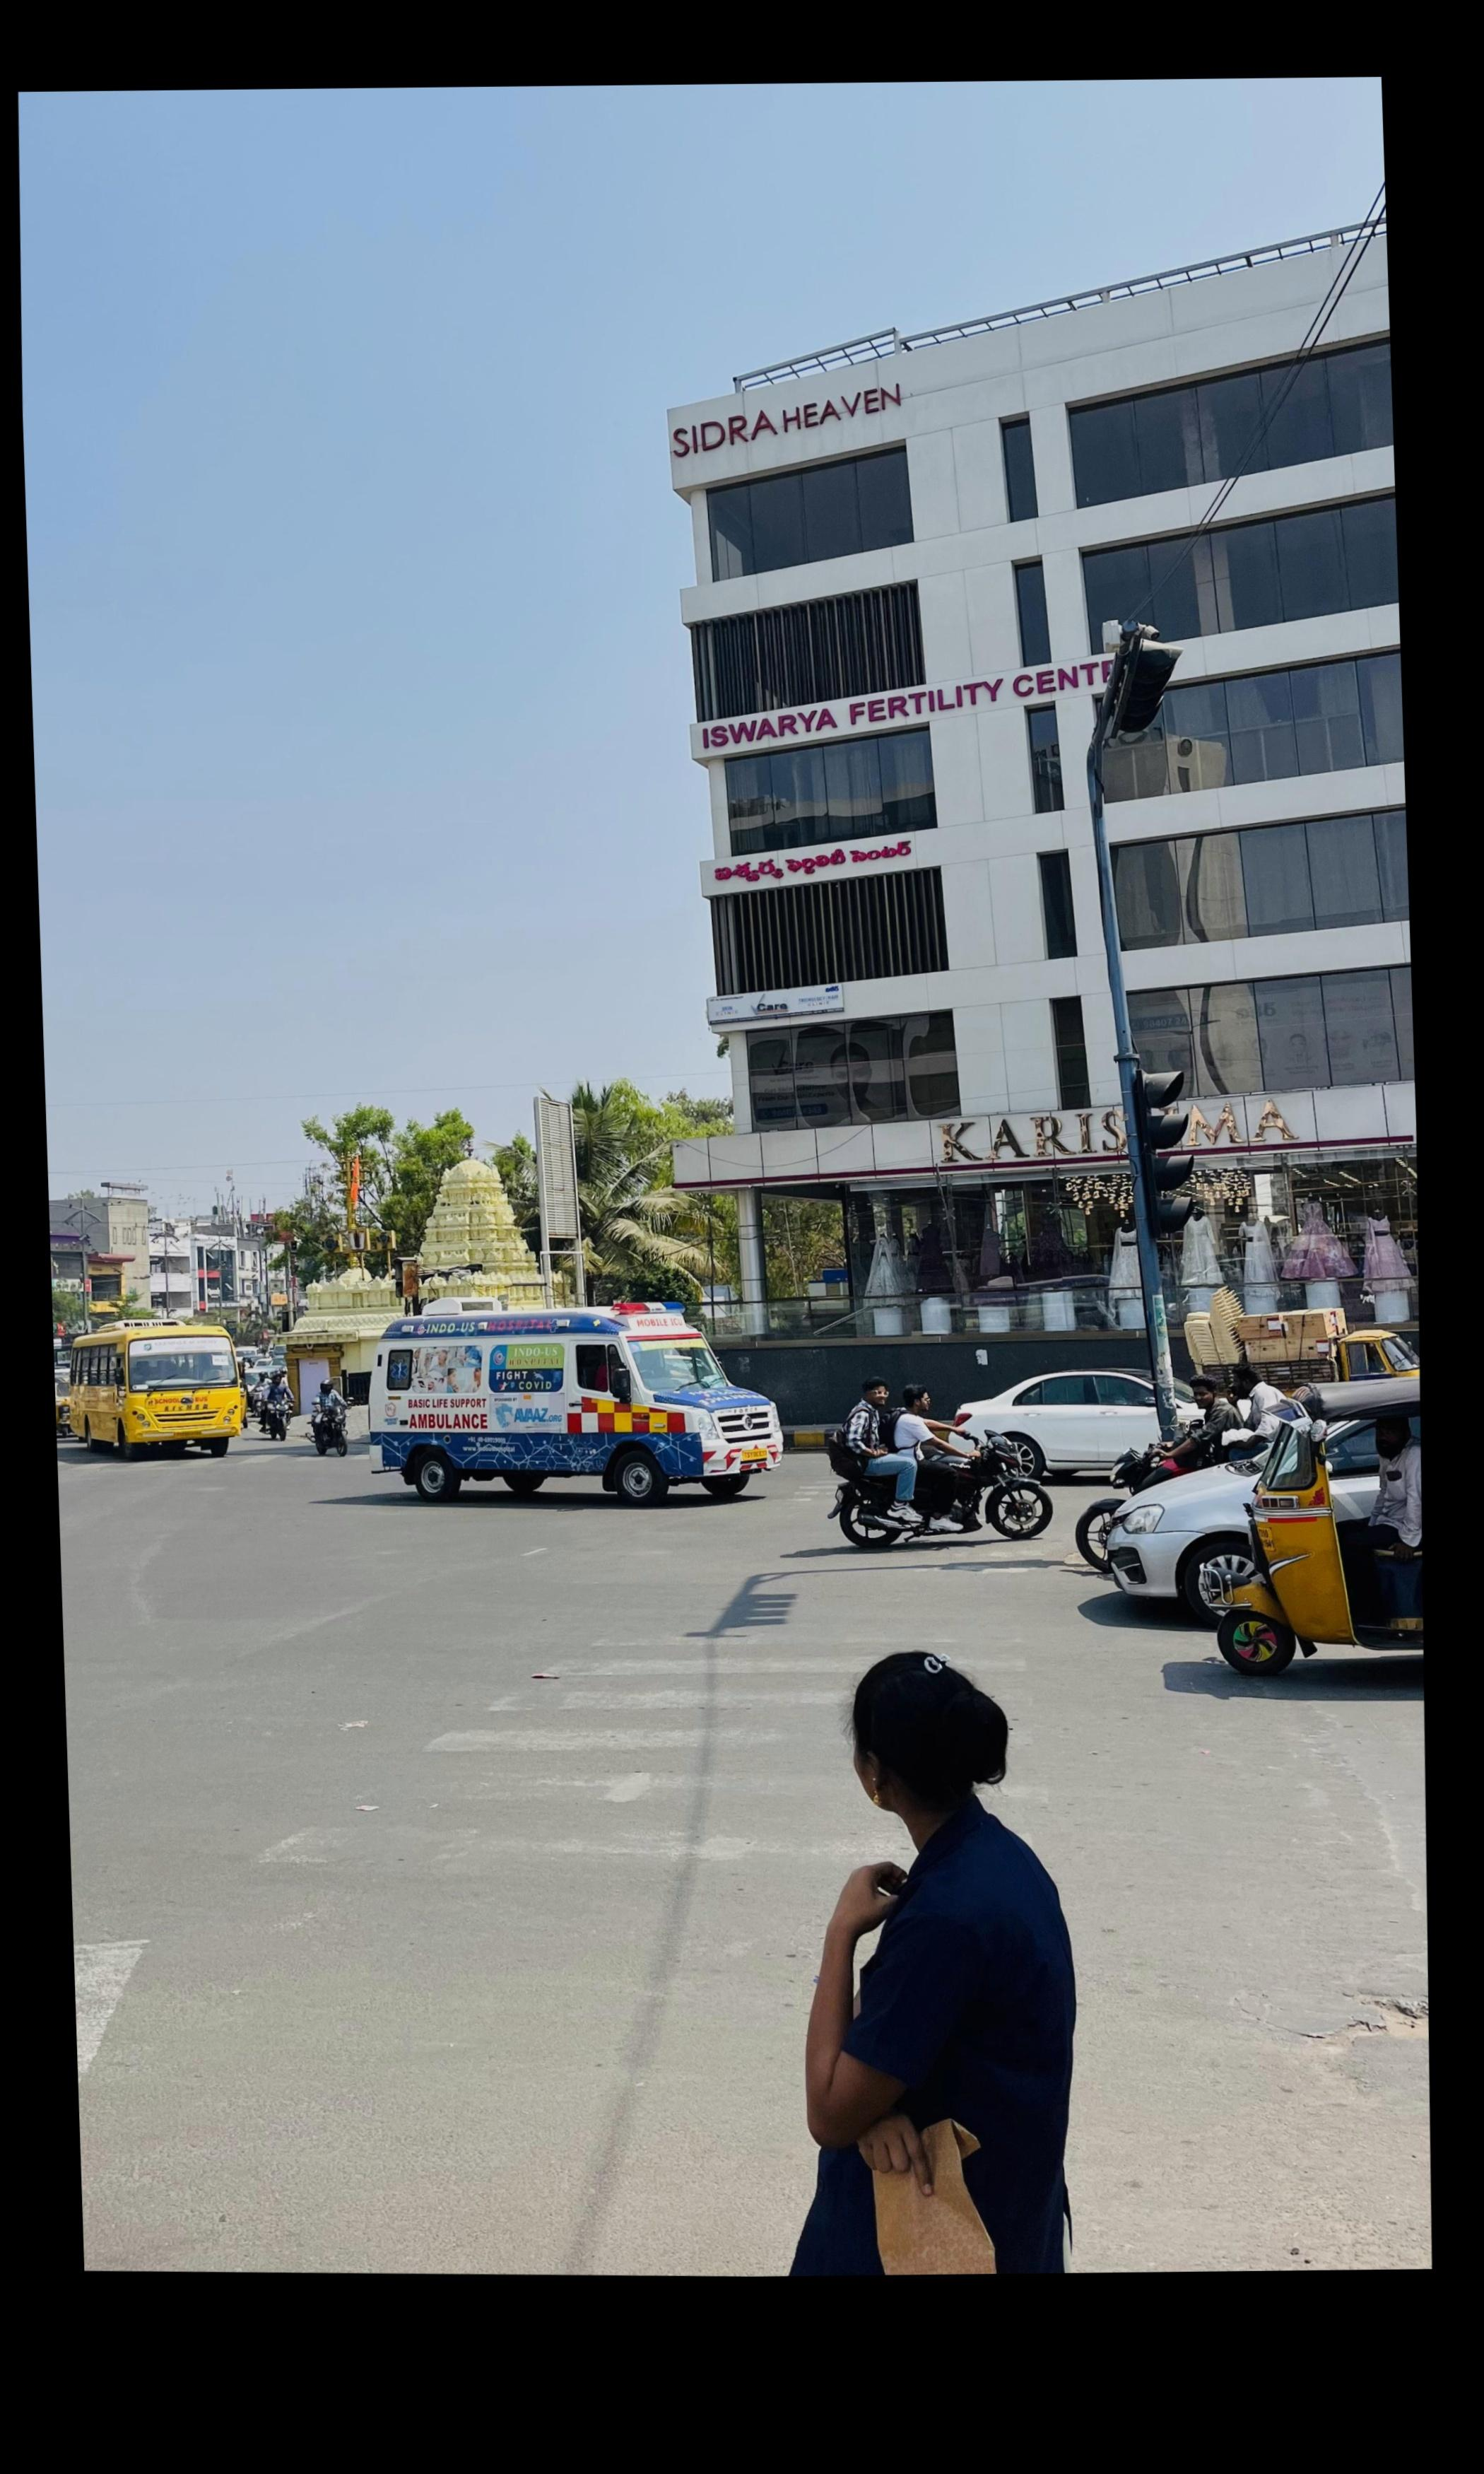ambulance: (339, 1306, 788, 1506)
